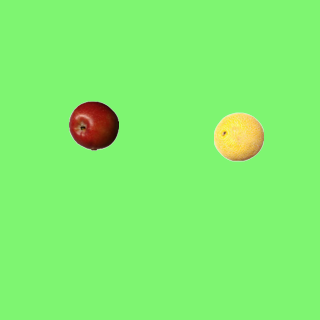Apple Braeburn: (68, 100, 118, 150)
Cantaloupe 1: (213, 111, 263, 161)
